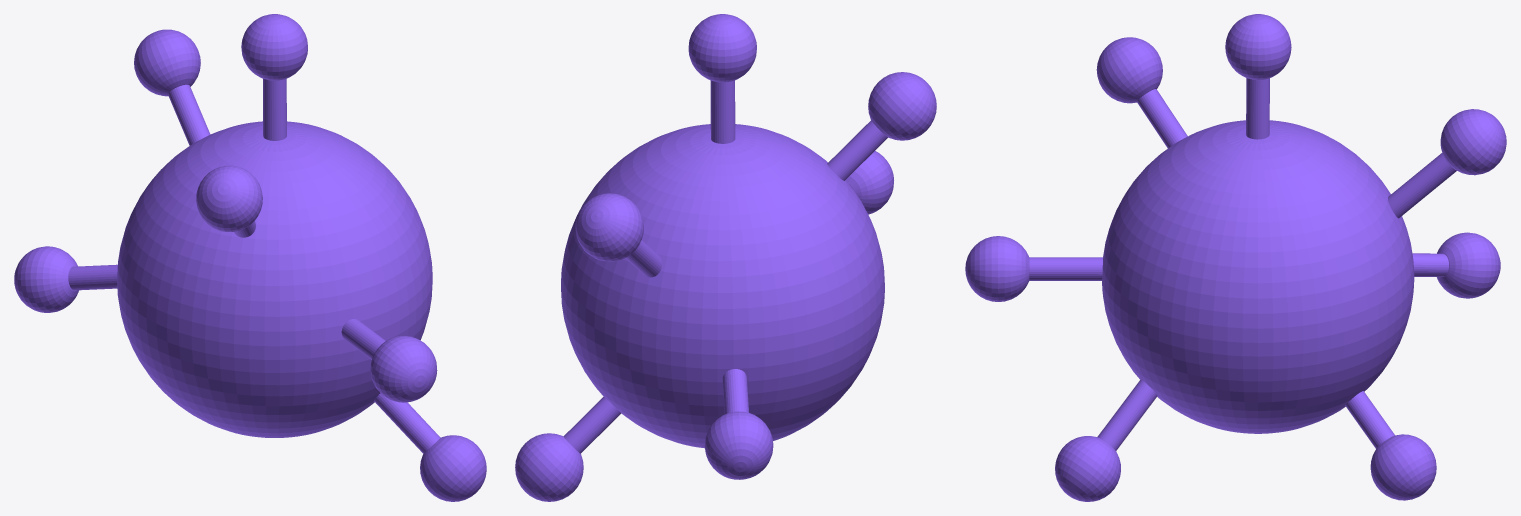
Rendered from uirus.fbx.
The picture shows the model from 3 angles, left to right: view 1: azimuth 30°, elevation 25°; view 2: azimuth 150°, elevation 25°; view 3: azimuth 270°, elevation 25°; orthographic projection. The views are drawn at different scales.
Parts seen in each view (by area): view 1: 球, 円柱.004, 円柱.001, 円柱, 円柱.003, 円柱.006, 円柱.002; view 2: 球, 円柱.001, 円柱.002, 円柱.005, 円柱.006, 円柱, 円柱.003; view 3: 球, 円柱, 円柱.003, 円柱.004, 円柱.001, 円柱.002, 円柱.005, 円柱.006.
Part boxes in pixels (<box>): 球: <box>117,121,432,437</box>; 円柱.004: <box>374,393,486,501</box>; 円柱.001: <box>241,14,307,140</box>; 円柱: <box>134,29,210,145</box>; 円柱.003: <box>341,319,437,402</box>; 円柱.006: <box>14,246,117,312</box>; 円柱.002: <box>196,165,262,237</box>; 球: <box>561,124,884,448</box>; 円柱.001: <box>688,14,756,143</box>; 円柱.002: <box>827,72,936,180</box>; 円柱.005: <box>515,396,621,501</box>; 円柱.006: <box>704,369,773,479</box>; 円柱: <box>575,193,662,277</box>; 円柱.003: <box>846,151,893,214</box>; 球: <box>1102,120,1414,433</box>; 円柱: <box>1388,109,1506,218</box>; 円柱.003: <box>965,236,1103,301</box>; 円柱.004: <box>1055,379,1157,501</box>; 円柱.001: <box>1225,14,1291,139</box>; 円柱.002: <box>1096,37,1187,148</box>; 円柱.005: <box>1345,391,1436,500</box>; 円柱.006: <box>1412,232,1500,298</box>.
Size of the model in its own units: 1269 by 1863 by 2092.
